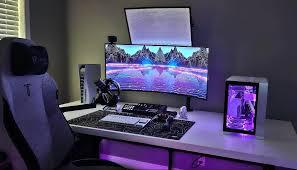keyboard: (96, 113, 152, 129)
